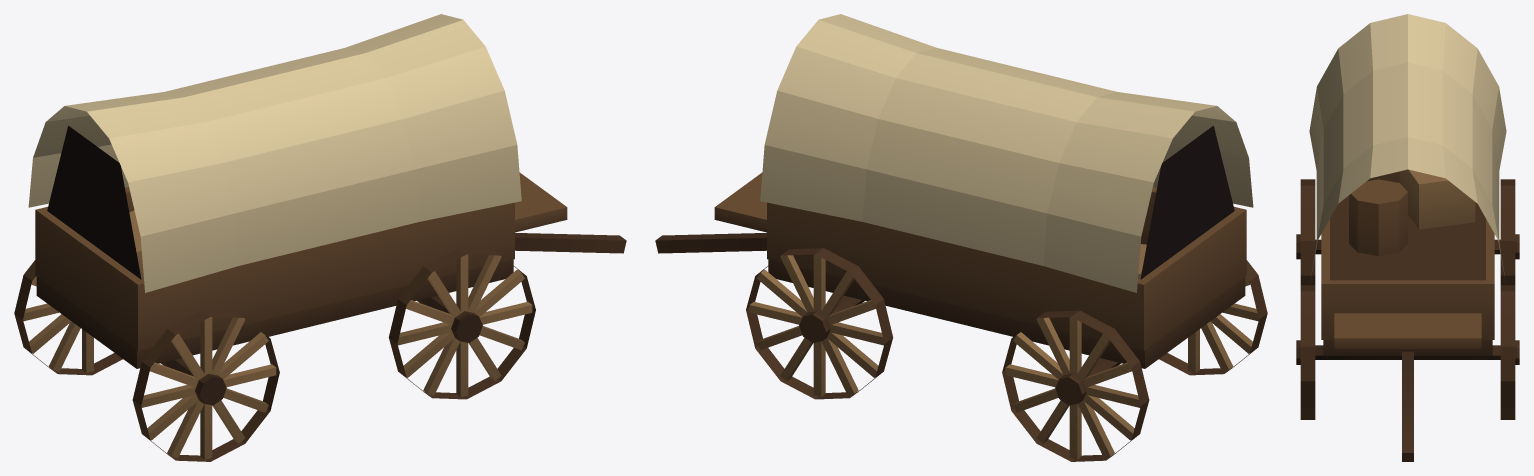
Rendered from b_wagon.glb.
The picture shows the model from 3 angles, left to right: view 1: azimuth 30°, elevation 25°; view 2: azimuth 150°, elevation 25°; view 3: azimuth 270°, elevation 25°; orthographic projection. The views are drawn at different scales.
Parts seen in each view (by area): view 1: cloth, wood, plain; view 2: cloth, wood, plain; view 3: wood, cloth.
Boxes of the visible parts, left/top/right/bottom form: cloth: left=28, top=14, right=521, bottom=292; wood: left=14, top=172, right=626, bottom=461; plain: left=47, top=125, right=141, bottom=279; cloth: left=760, top=14, right=1253, bottom=292; wood: left=655, top=172, right=1267, bottom=461; plain: left=1140, top=125, right=1234, bottom=279; wood: left=1296, top=169, right=1519, bottom=461; cloth: left=1309, top=14, right=1506, bottom=280.
Bounding box in the file's own units: 3.62 × 2.02 × 1.52.
